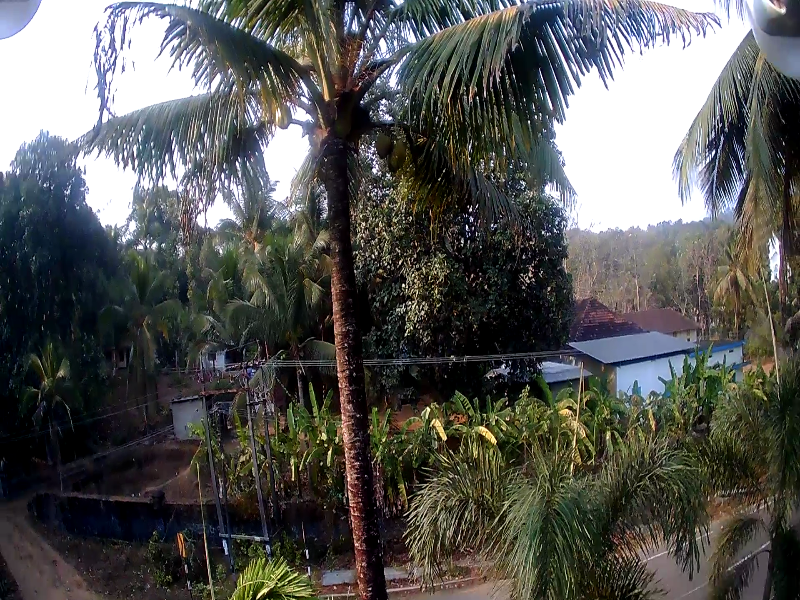coconut: (275, 107, 297, 130), (388, 136, 401, 171), (371, 135, 385, 160)
